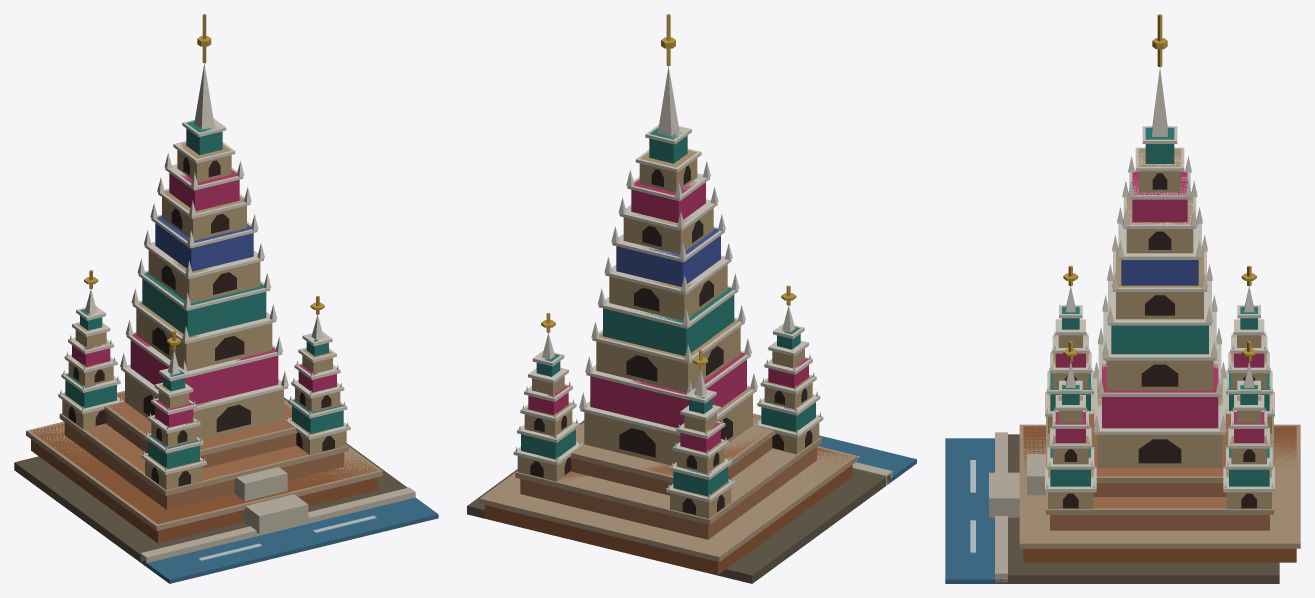
Rendered from watArun.glb.
The picture shows the model from 3 angles, left to right: view 1: azimuth 30°, elevation 25°; view 2: azimuth 150°, elevation 25°; view 3: azimuth 270°, elevation 25°; orthographic projection. The views are drawn at different scales.
Visible parts, largest first — view 1: watArun; view 2: watArun; view 3: watArun.
Boxes of the visible parts, bbox=[...] form: watArun: bbox=[14, 14, 438, 583]; watArun: bbox=[467, 14, 916, 583]; watArun: bbox=[945, 14, 1300, 583].
Bounding box in the file's own units: 1.76 × 2.9 × 1.87.
